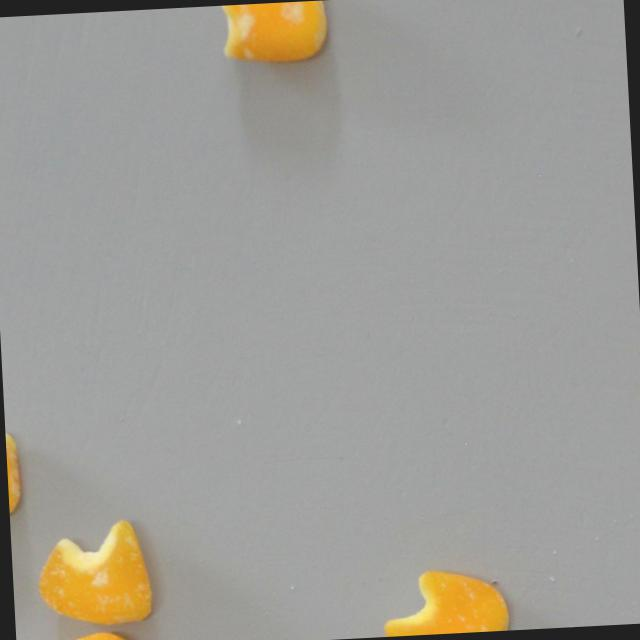pelicula: (34, 516, 154, 629), (380, 567, 510, 637), (220, 0, 332, 65), (5, 417, 23, 521), (46, 630, 144, 640)
